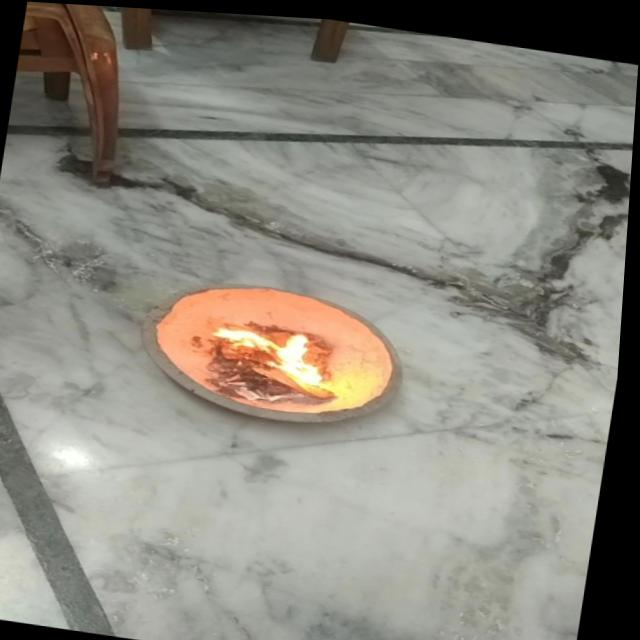fire: (204, 314, 343, 388)
